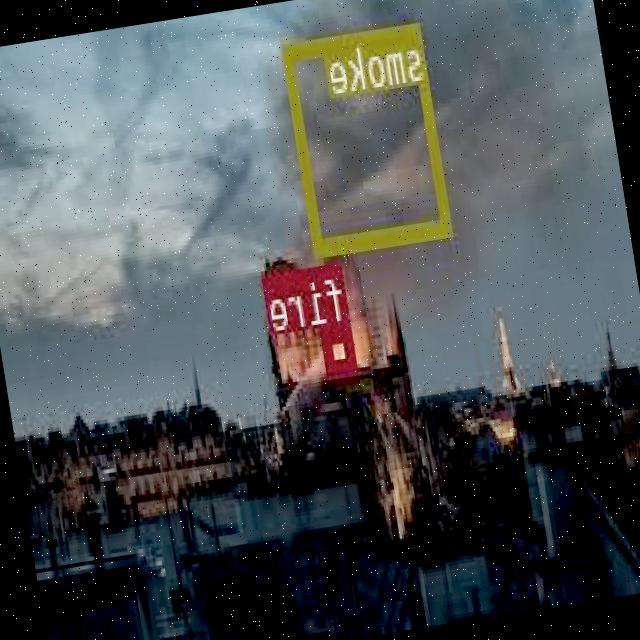fire: (321, 320, 360, 376)
smoke: (284, 22, 453, 252)
